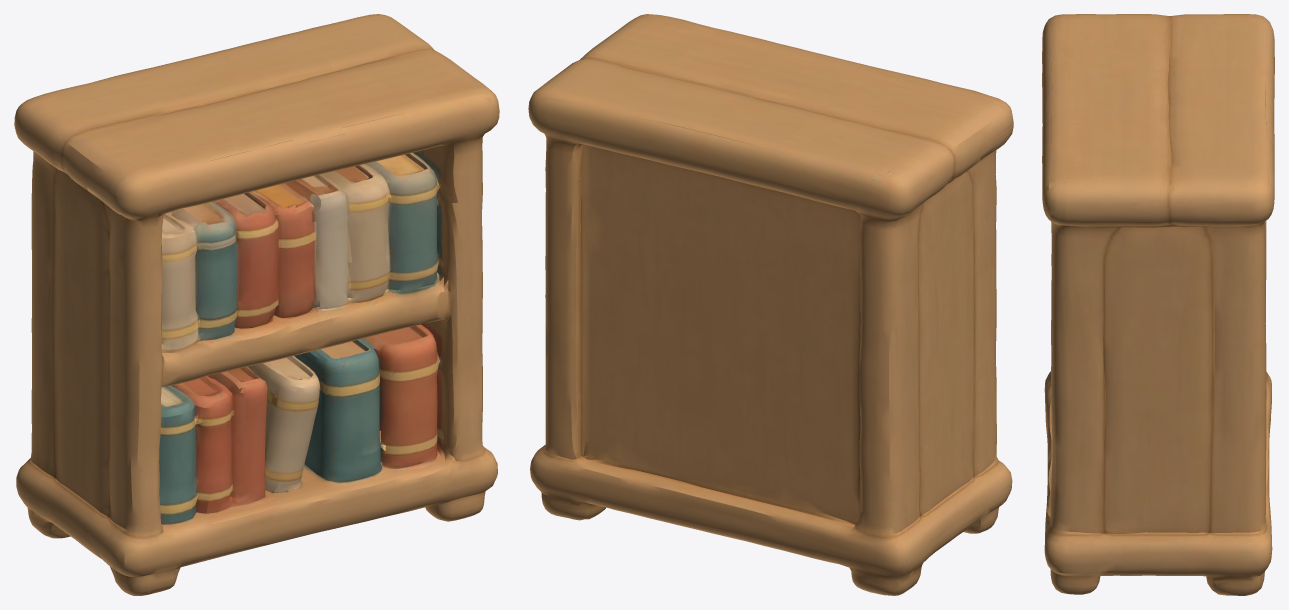
Rendered from Meshy_AI_model.glb.
3 renders of one model, left to right at view 1: azimuth 30°, elevation 25°; view 2: azimuth 150°, elevation 25°; view 3: azimuth 270°, elevation 25°, orthographic. The views are drawn at different scales.
Visible parts, largest first — view 1: Mesh0; view 2: Mesh0; view 3: Mesh0.
Part boxes in pixels (bbox=[...]): Mesh0: bbox=[14, 14, 499, 595]; Mesh0: bbox=[528, 14, 1013, 595]; Mesh0: bbox=[1042, 14, 1274, 595].
Bounding box in the file's own units: 1.77 × 1.9 × 0.9605.
1 material, 1 textured.
